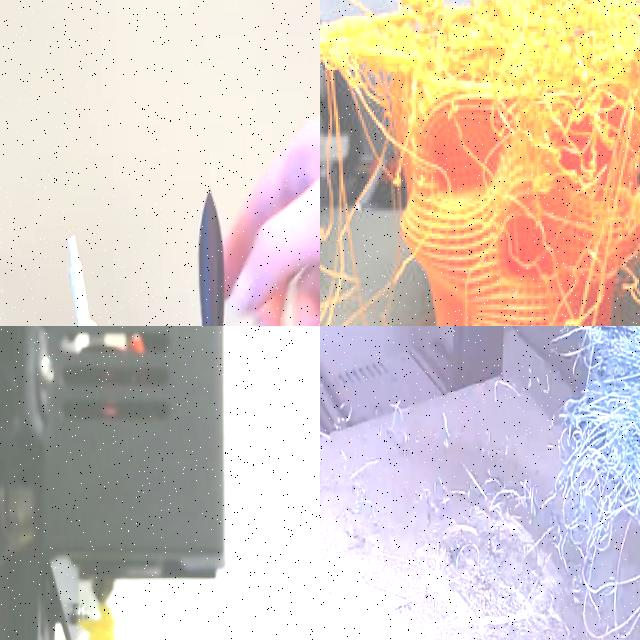spaghetti: (551, 326, 640, 640), (320, 40, 394, 326), (479, 460, 541, 526), (450, 528, 498, 592), (380, 389, 418, 467), (346, 476, 377, 540), (488, 362, 524, 414), (390, 587, 424, 636), (420, 478, 454, 522), (432, 402, 456, 455), (526, 358, 554, 400), (320, 407, 335, 477)
